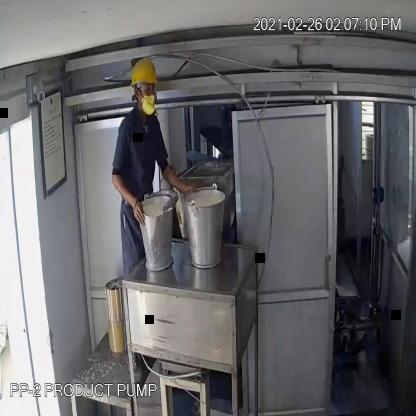helmet: (126, 55, 164, 92)
